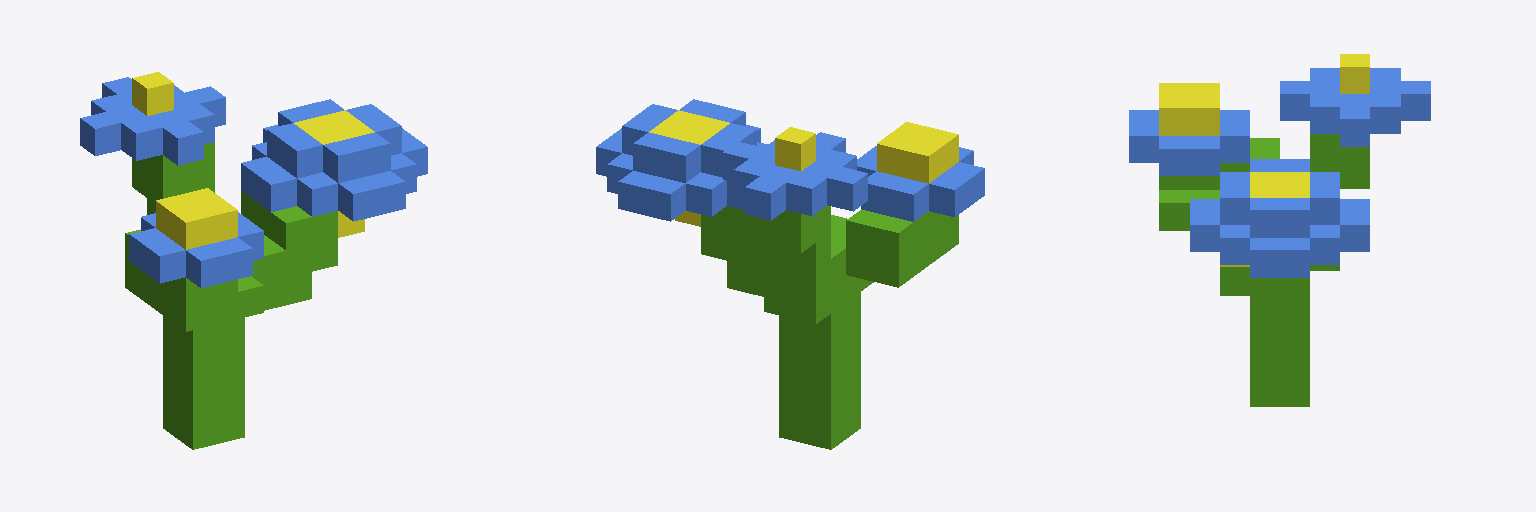
3 renders of one model, left to right at view 1: azimuth 30°, elevation 25°; view 2: azimuth 150°, elevation 25°; view 3: azimuth 270°, elevation 25°, orthographic.
Visible parts, largest first — view 1: object 1; view 2: object 1; view 3: object 1.
Part boxes in pixels (x1,y1,x2,y2): object 1: (80, 72, 427, 449); object 1: (596, 99, 984, 449); object 1: (1129, 54, 1430, 406).
Bounding box in the file's own units: 1.2 × 1.2 × 1.
1 materials, 1 textured.